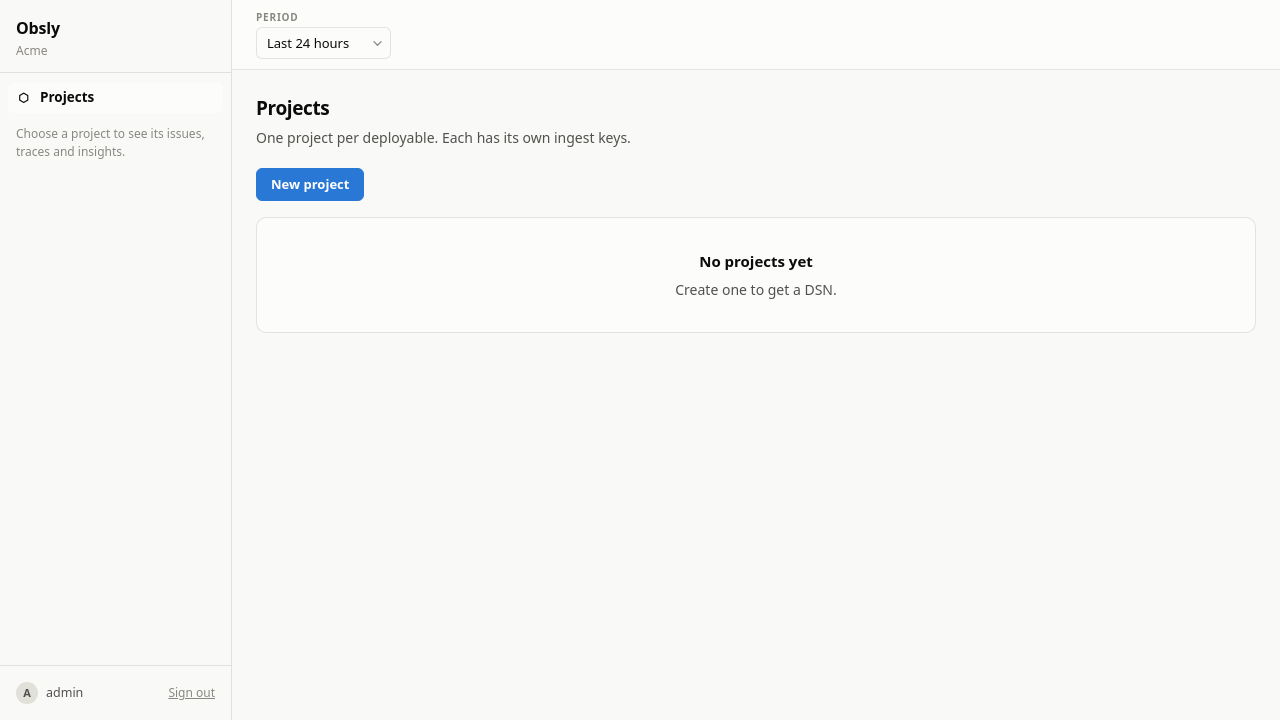
Test case: Projects page › asks which organization once there is more than one
Step 1. Click the button "New project" → (310, 184), box [256,168,364,201]
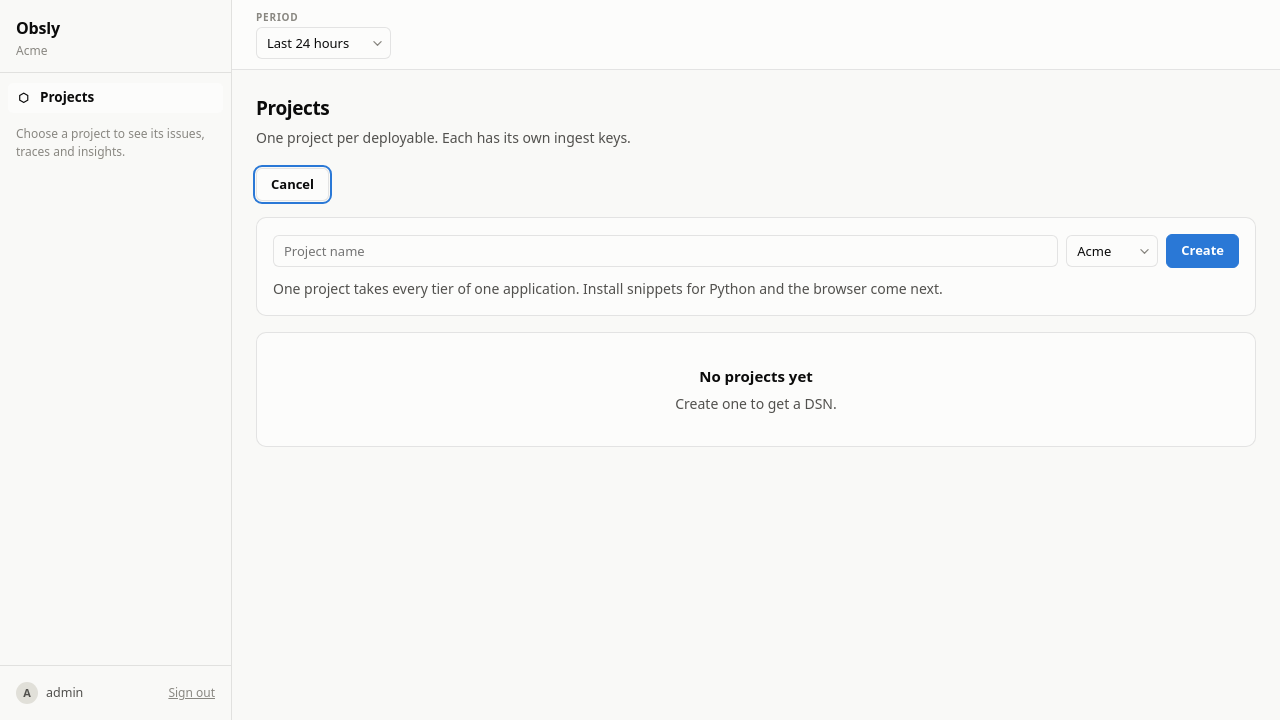
Expected: the dropdown named "Organization" is shown, [1066,235,1158,267]
